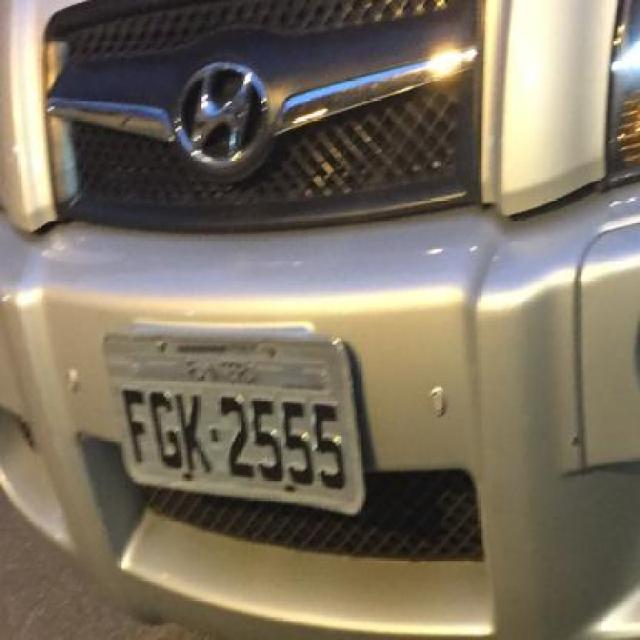old_plate: (99, 324, 375, 520)
